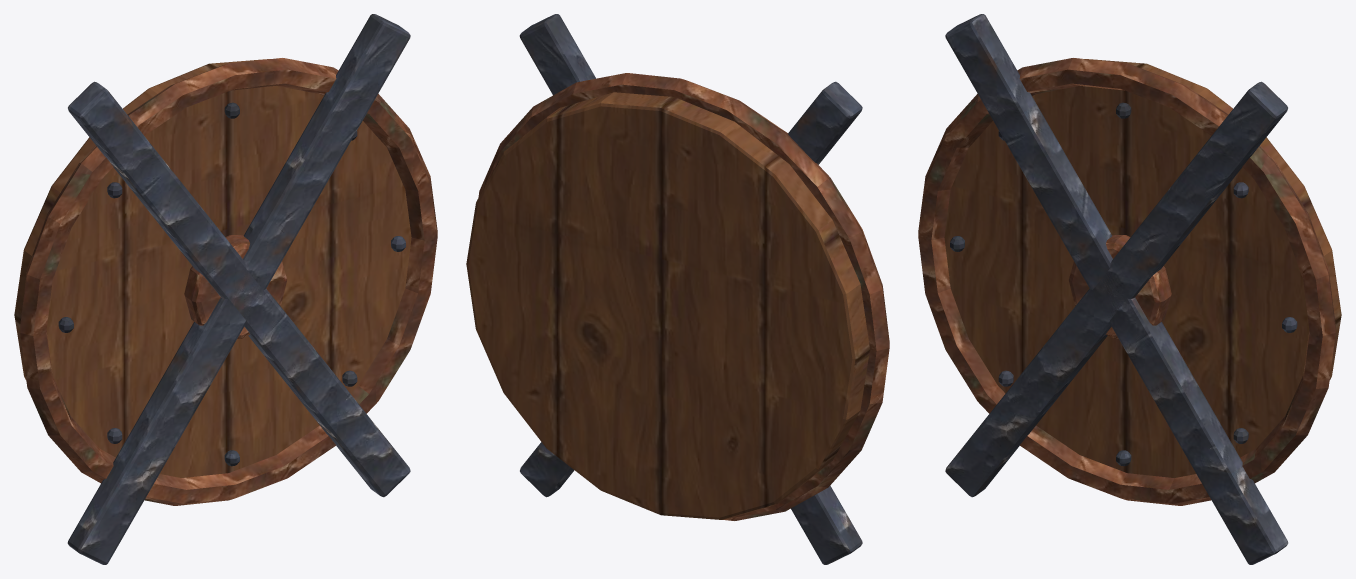
File: wall_shield__copper_ingot.glb
3 renders of one model, left to right at view 1: azimuth 30°, elevation 25°; view 2: azimuth 150°, elevation 25°; view 3: azimuth 330°, elevation 25°, orthographic.
Visible parts, largest first — view 1: model; view 2: model; view 3: model.
Boxes of the visible parts, <box> form: model: <box>14,14,437,564</box>; model: <box>466,14,889,564</box>; model: <box>918,14,1341,564</box>.
Size of the model in its own units: 0.704 by 0.7668 by 0.11.
Materials: 6 (6 with a texture image).
